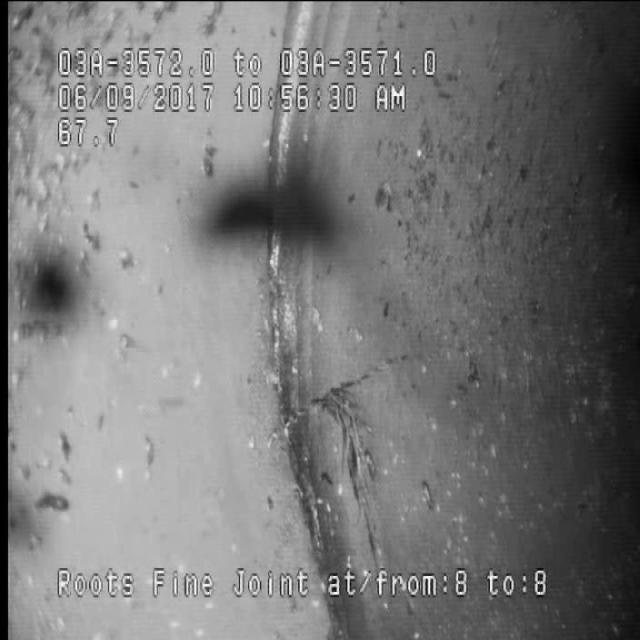Crack: (304, 276, 478, 512)
